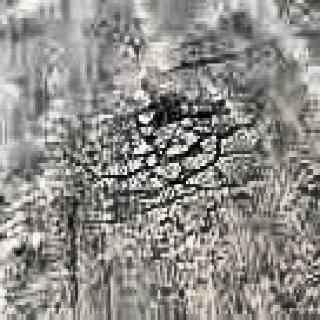pothole: (112, 76, 250, 226)
